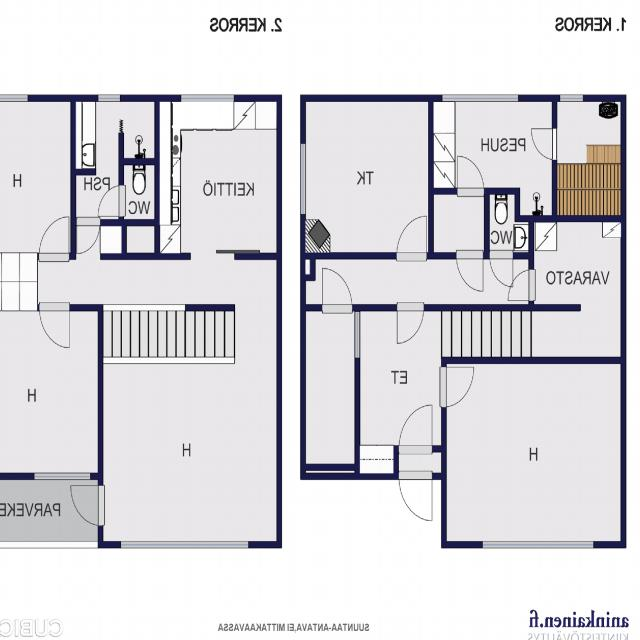door: (400, 401, 432, 452), (400, 472, 432, 522), (39, 212, 69, 260), (322, 265, 352, 311), (40, 304, 70, 350), (442, 366, 476, 406), (69, 485, 103, 525), (397, 212, 426, 258), (457, 252, 483, 294), (398, 304, 423, 346), (458, 153, 483, 194), (96, 186, 124, 217), (490, 252, 513, 289), (77, 219, 100, 256), (506, 270, 534, 300), (530, 129, 557, 159)
